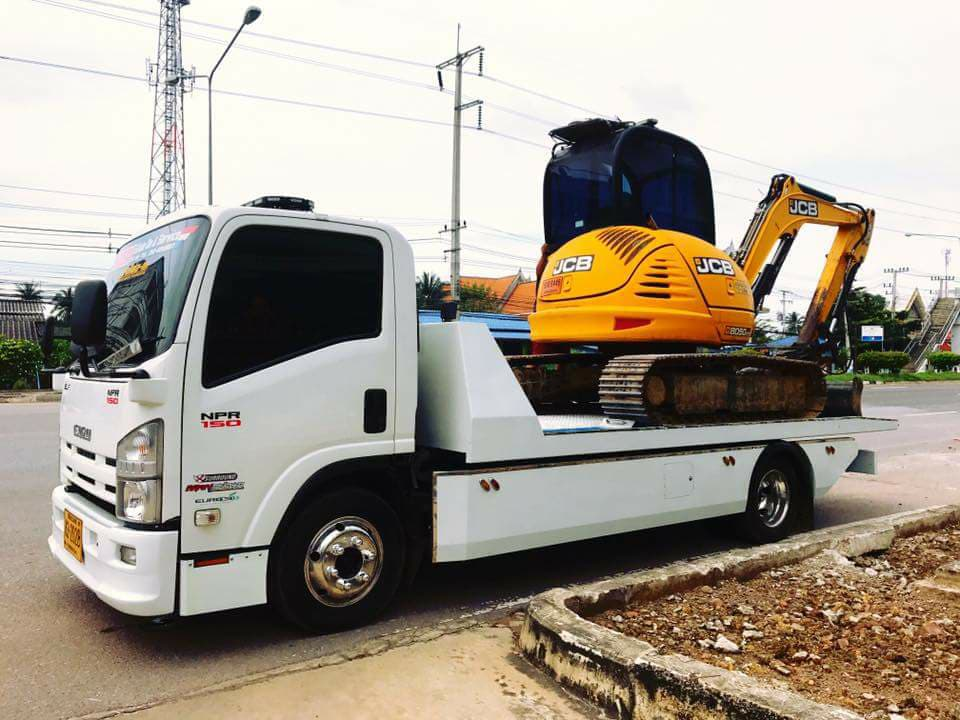truck: (55, 198, 900, 631)
